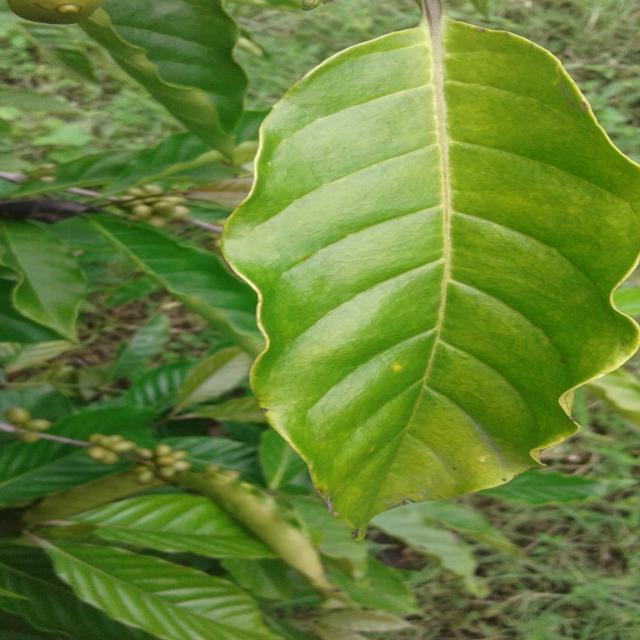Enfermedad-Roya: (219, 16, 640, 538)
